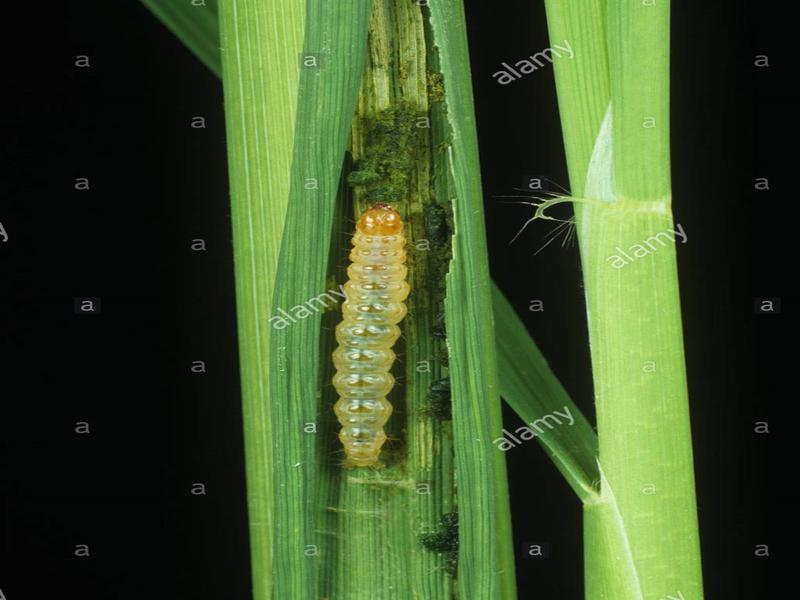Leaf_folder: (316, 197, 429, 467)
